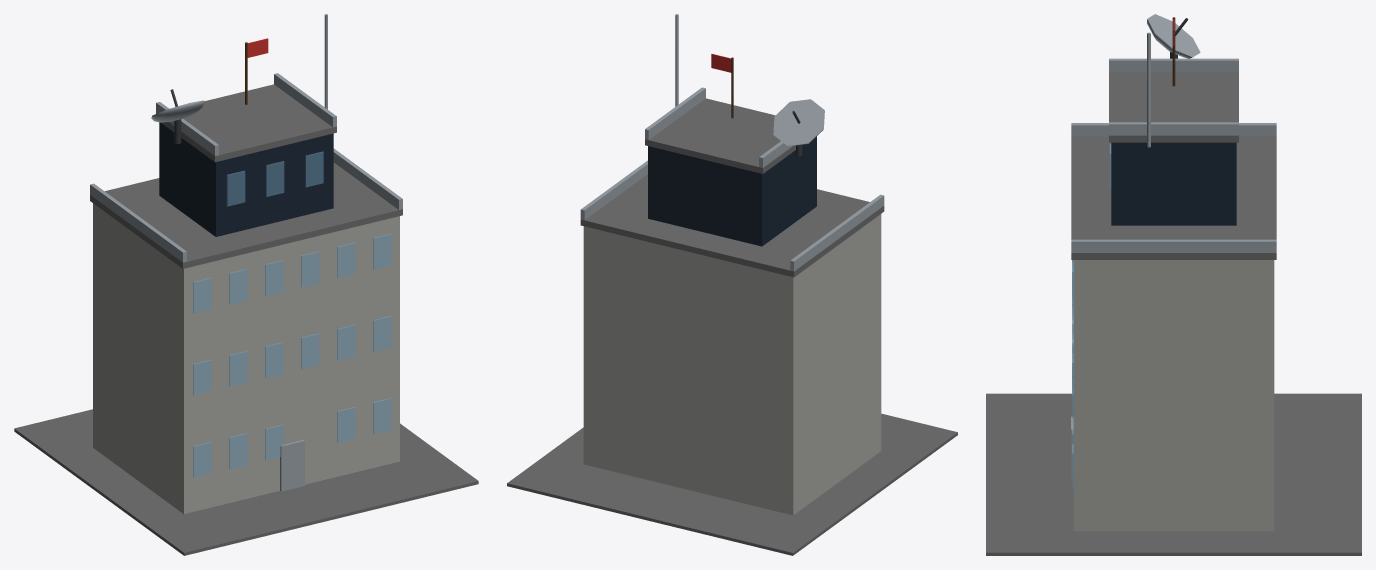
File: bld_special_command_center_a07_lod1.glb
The picture shows the model from 3 angles, left to right: view 1: azimuth 30°, elevation 25°; view 2: azimuth 150°, elevation 25°; view 3: azimuth 270°, elevation 25°; orthographic projection. The views are drawn at different scales.
Visible parts, largest first — view 1: body, antenna; view 2: body, antenna; view 3: body, antenna.
Part boxes in pixels (<box>): body: <box>14,14,478,555</box>; antenna: <box>151,89,204,143</box>; body: <box>507,14,957,555</box>; antenna: <box>773,99,824,156</box>; body: <box>986,17,1361,555</box>; antenna: <box>1147,14,1200,58</box>.
Bounding box in the file's own units: 15 × 21.15 × 15.
